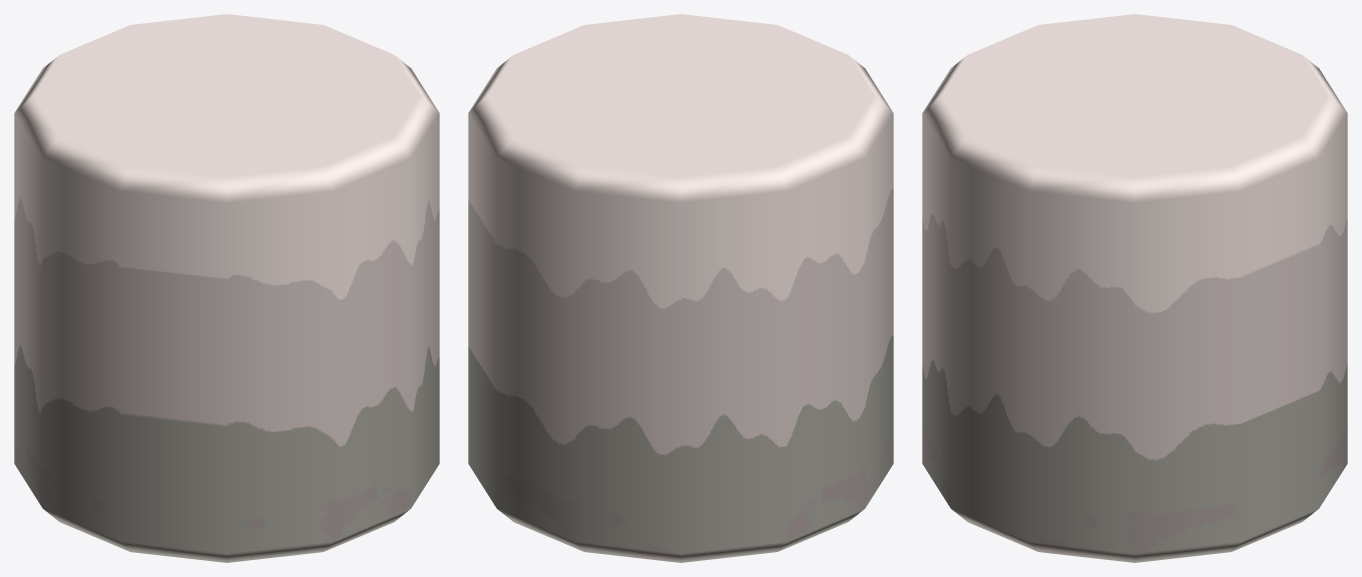
3 views of the same model, side by side, from view 1: azimuth 30°, elevation 25°; view 2: azimuth 150°, elevation 25°; view 3: azimuth 270°, elevation 25° (orthographic).
Visible parts, largest first — view 1: R4B_Cylinder_LOD1; view 2: R4B_Cylinder_LOD1; view 3: R4B_Cylinder_LOD1.
Boxes of the visible parts, x1,y1,x2,y2 form: R4B_Cylinder_LOD1: (14,14,439,562); R4B_Cylinder_LOD1: (468,14,893,562); R4B_Cylinder_LOD1: (922,14,1347,562).
Bounding box in the file's own units: 0.52 × 0.52 × 0.52.
Materials: 1 (1 with a texture image).
